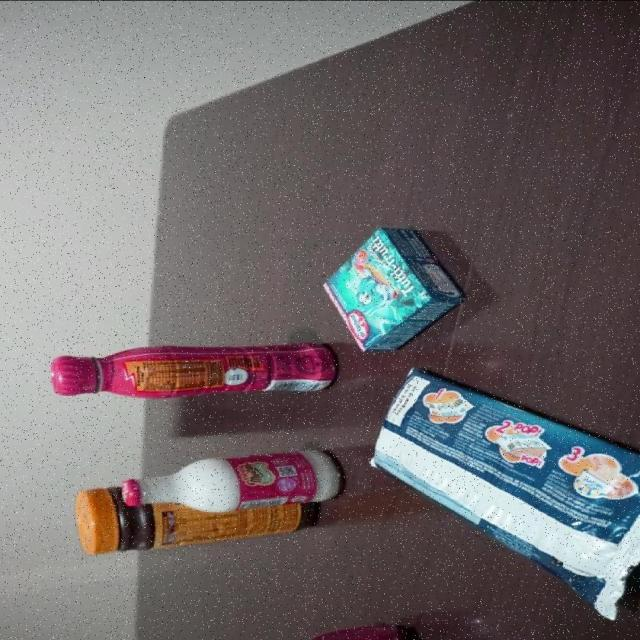ChocolateMilk: (49, 340, 340, 400)
ChocolatePowder: (74, 482, 327, 556)
CoconutMilk: (120, 445, 343, 513)
Gelatine: (320, 225, 471, 353)
Popcorn: (365, 365, 640, 622)
Yeast: (305, 622, 419, 640)
